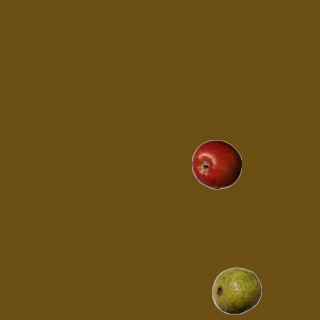Apple Braeburn: (191, 139, 241, 189)
Guava: (211, 265, 261, 315)
